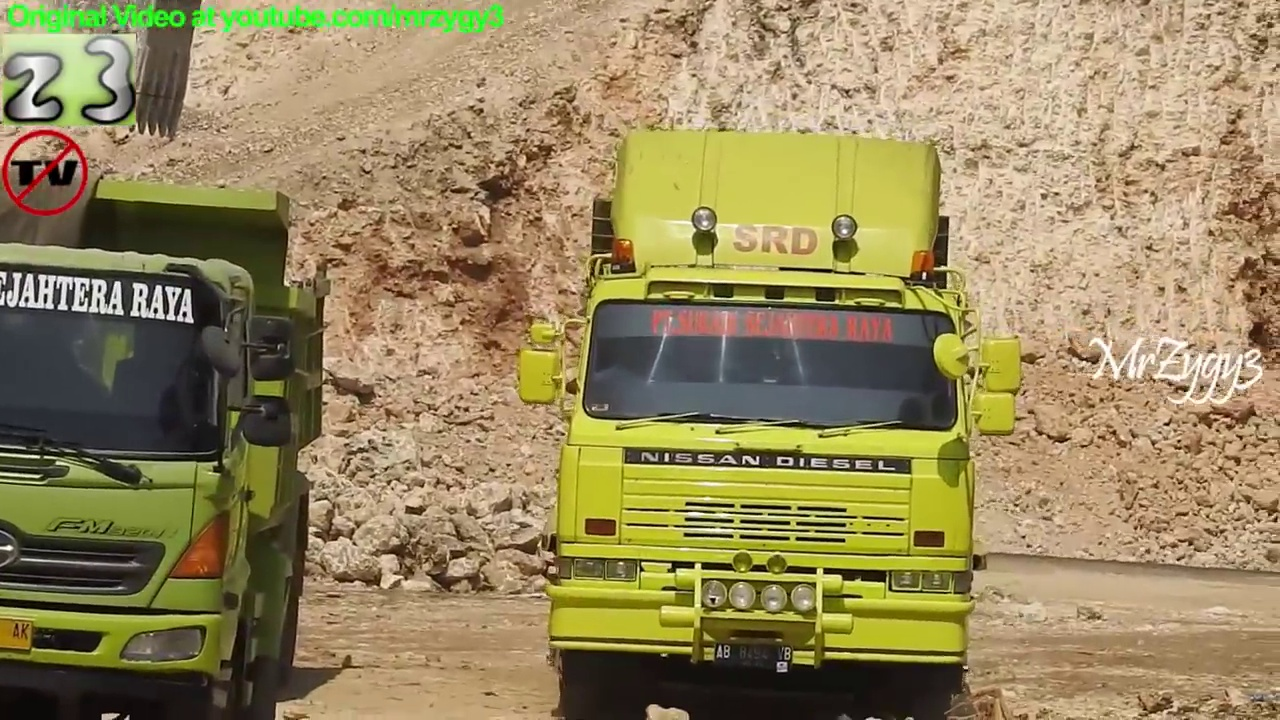excavator: (51, 1, 206, 145)
truck: (515, 121, 1035, 720), (1, 151, 337, 720)
